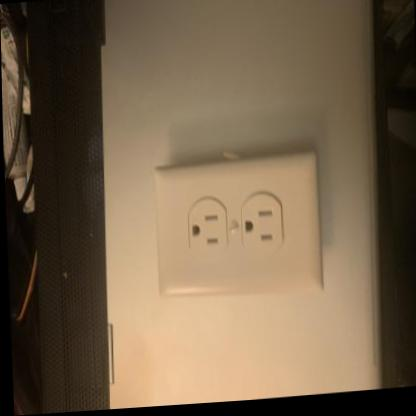OUTLET: (150, 150, 319, 301)
